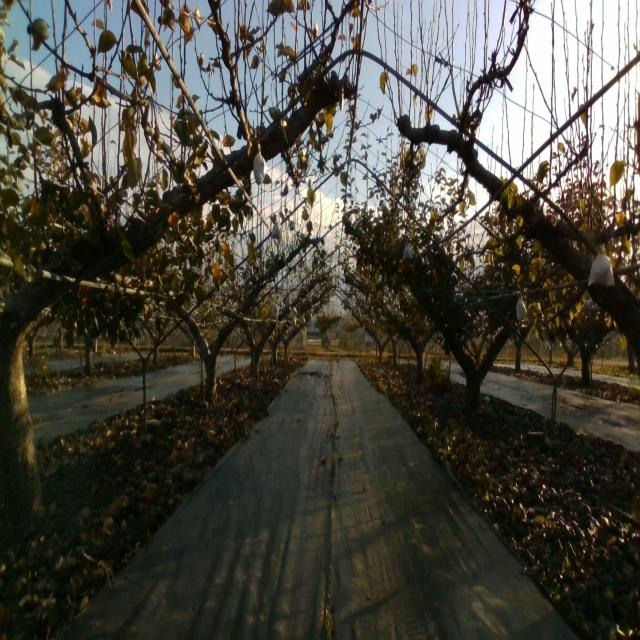pearbags: (588, 244, 616, 288), (253, 144, 267, 187), (515, 296, 527, 322), (271, 220, 284, 240)
